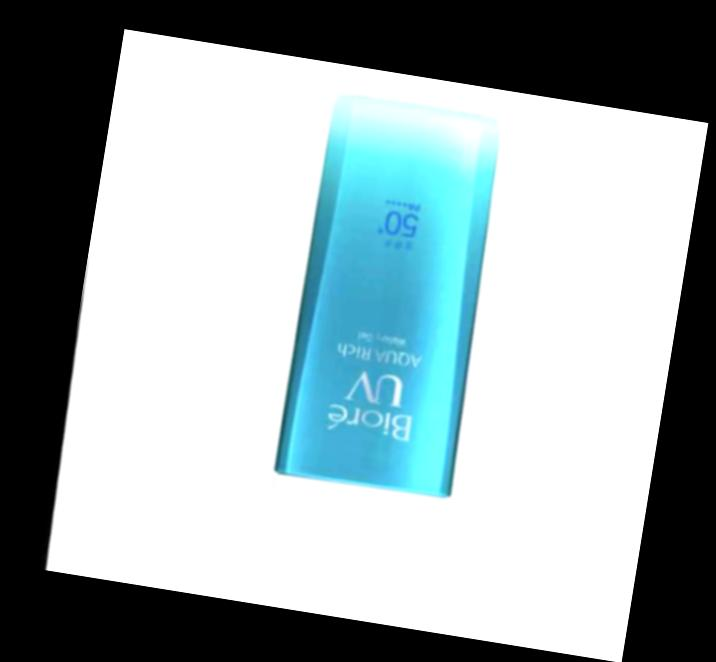cosmetic: (246, 88, 521, 616)
